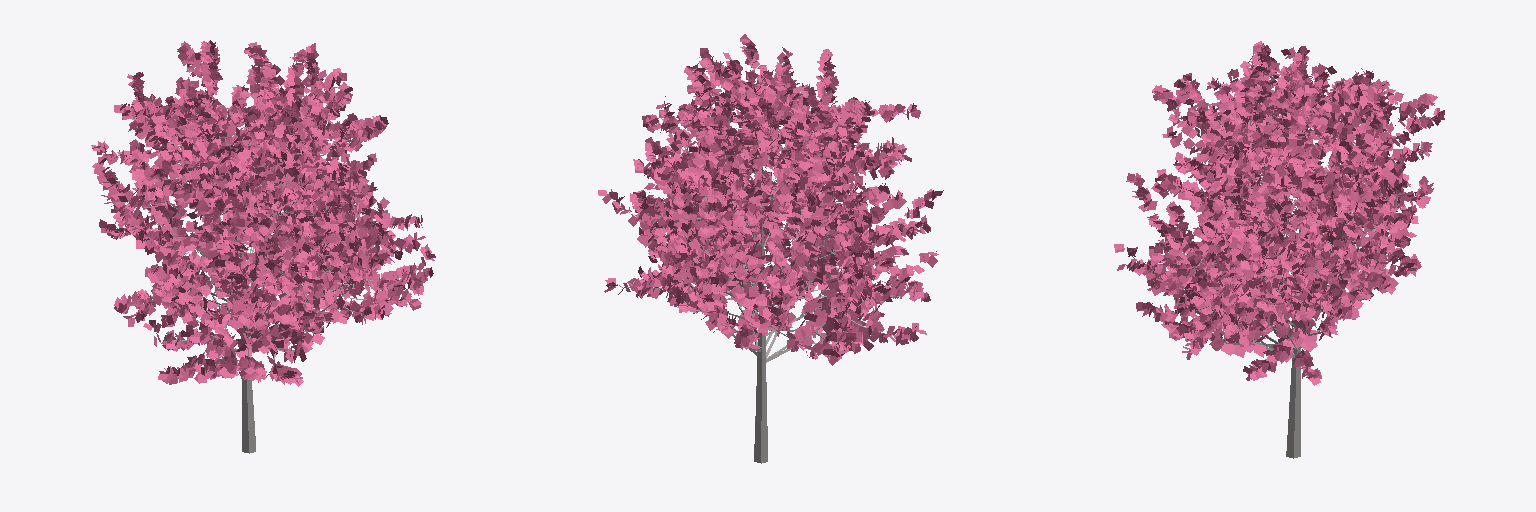
File: PLN010018.obj
3 renders of one model, left to right at view 1: azimuth 30°, elevation 25°; view 2: azimuth 150°, elevation 25°; view 3: azimuth 270°, elevation 25°, orthographic.
Parts seen in each view (by area): view 1: Flower_Tree; view 2: Flower_Tree; view 3: Flower_Tree.
Boxes of the visible parts, x1,y1,x2,y2 form: Flower_Tree: [91, 40, 435, 453]; Flower_Tree: [598, 34, 943, 463]; Flower_Tree: [1114, 41, 1444, 458].
Bounding box in the file's own units: 7972 × 10340 × 7797.